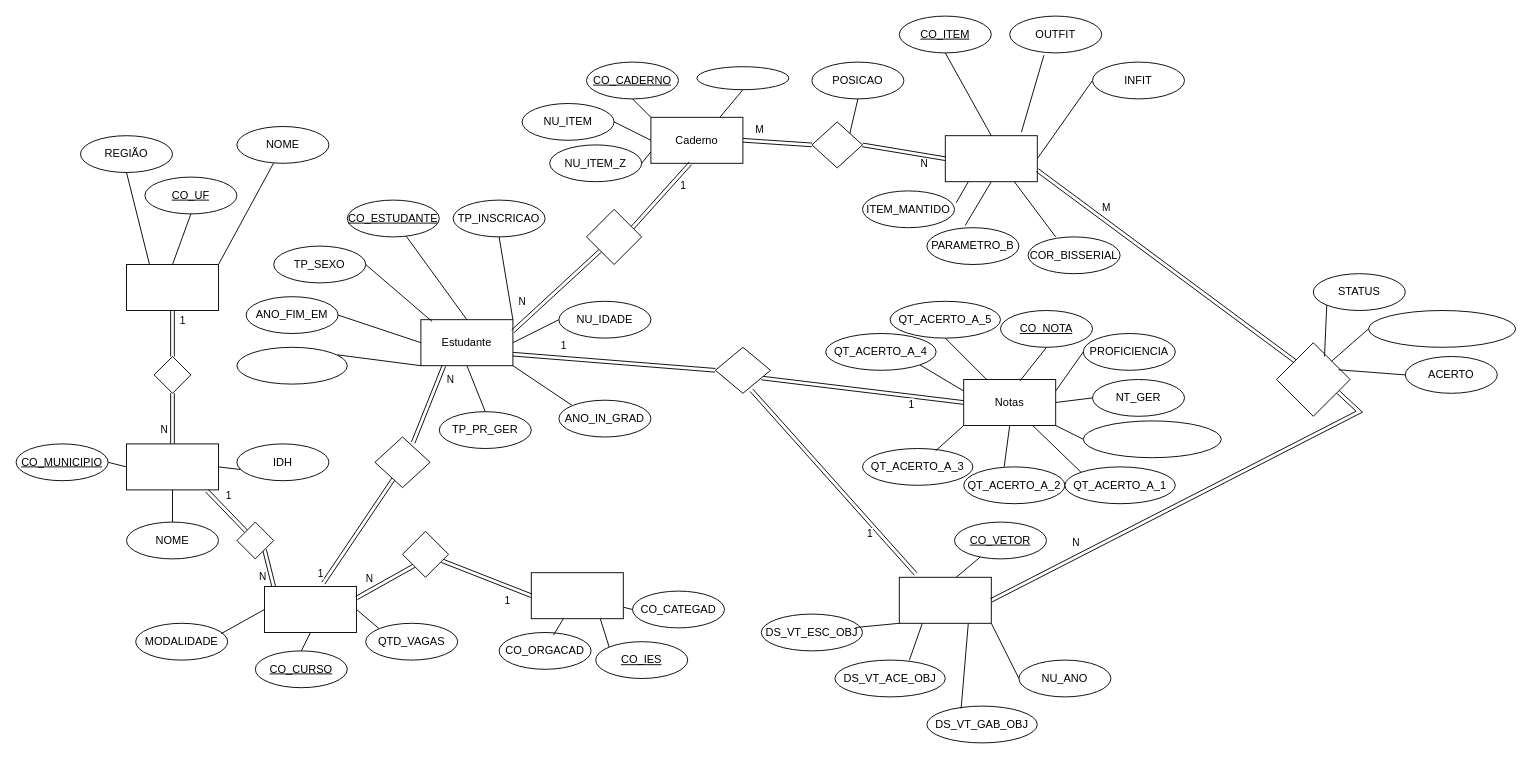
Some shapes in this 1532 by 759 pixel diagram are drawn without their labels. Here are the shapes that lost their labels. From the top down, the box of each, then its label:
(696, 66, 789, 90): NU_ITEM_X
(944, 135, 1037, 182): Item_prova
(126, 264, 218, 310): UF
(1368, 310, 1516, 347): ALTERNATIVA_MARCADA
(236, 346, 347, 384): CO_TURNO_GRAD
(1082, 420, 1221, 458): PER_ACERTO_ENARE
(126, 443, 218, 490): Município
(264, 586, 356, 632): Curso
(530, 572, 623, 619): IES
(898, 576, 991, 623): Vetores
